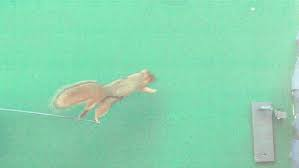squirrel: (55, 68, 160, 125)
